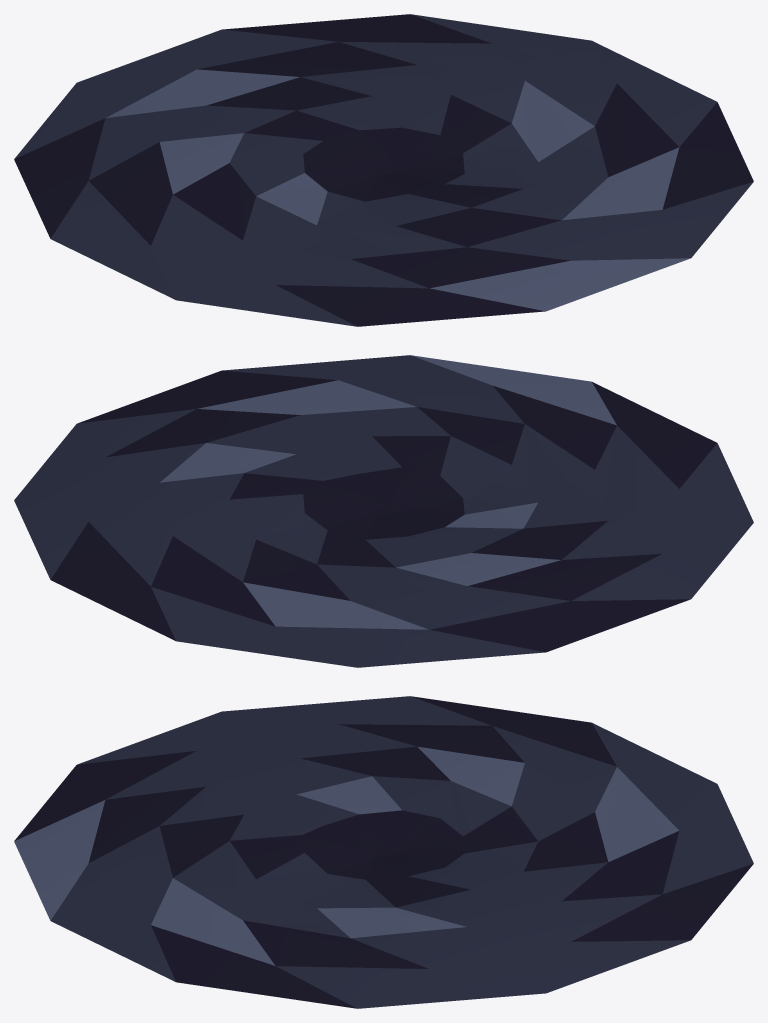
Rendered from SM_Env_UndertowDisc_LQ.glb.
3 views of the same model, one above another, from view 1: azimuth 30°, elevation 25°; view 2: azimuth 150°, elevation 25°; view 3: azimuth 270°, elevation 25° (orthographic).
Parts seen in each view (by area): view 1: SM_Env_UndertowDisc_LQ; view 2: SM_Env_UndertowDisc_LQ; view 3: SM_Env_UndertowDisc_LQ.
Boxes of the visible parts, box(x1,y1,x2,y2) form: SM_Env_UndertowDisc_LQ: box(14, 14, 753, 326); SM_Env_UndertowDisc_LQ: box(14, 355, 753, 667); SM_Env_UndertowDisc_LQ: box(14, 696, 753, 1008).
Bounding box in the file's own units: 411 × 10.31 × 411.
1 material, 1 textured.
